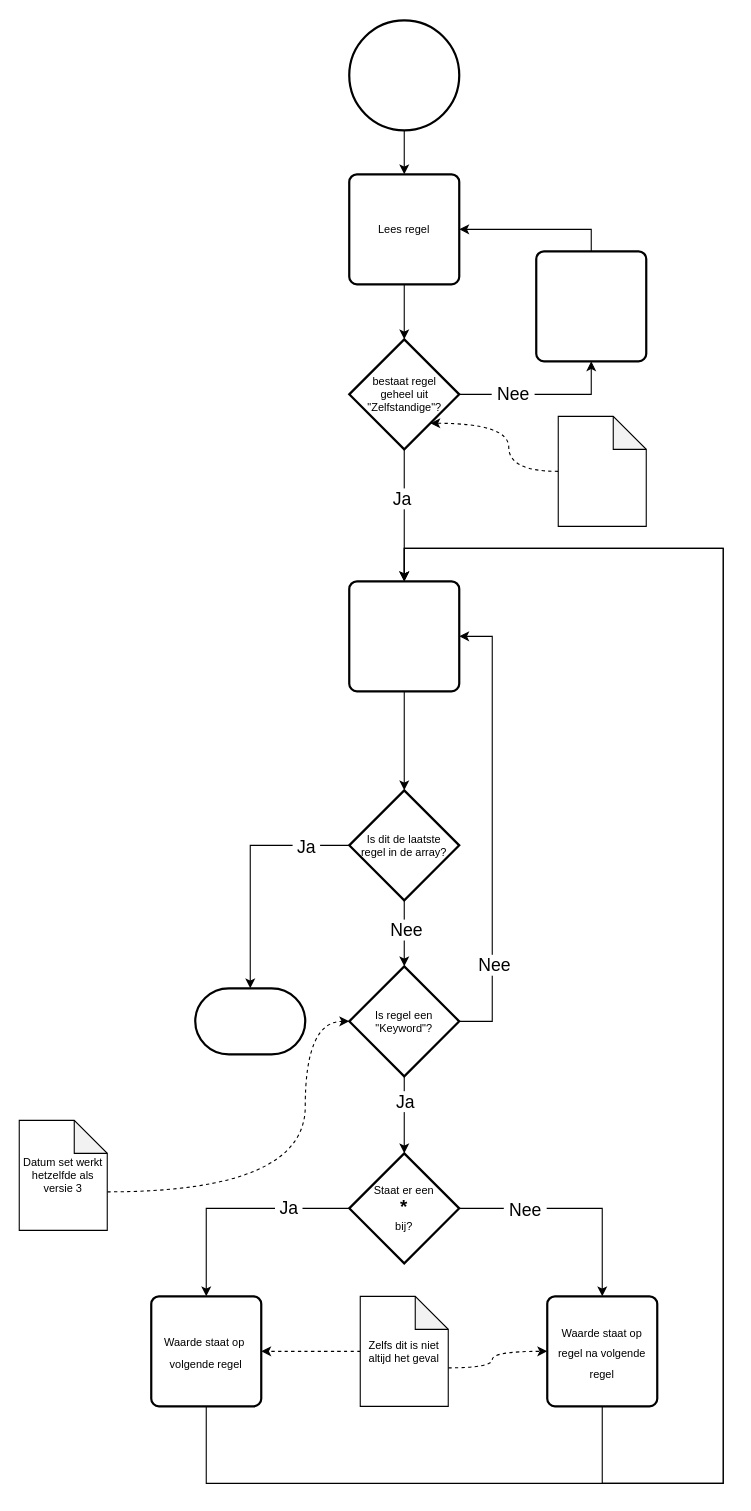
Image size: 751x1511. Some labels were removed from this diagram. Each missing label, with the centre of its shape:
Alles daarvoor is onbelangrijk: point 601,470
Document is in array gezet: point 404,75
Ga naar volgende regel: point 591,306
Lees volgende regel: point 404,636
Schrijf alles naar bestand: point 250,1021
